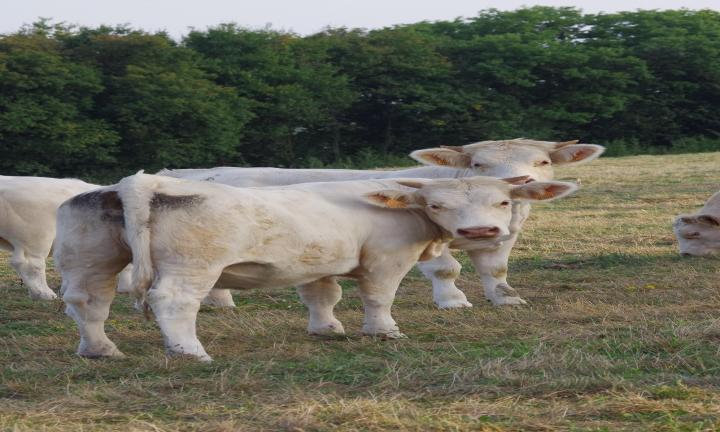Charolais: (55, 172, 576, 361)
